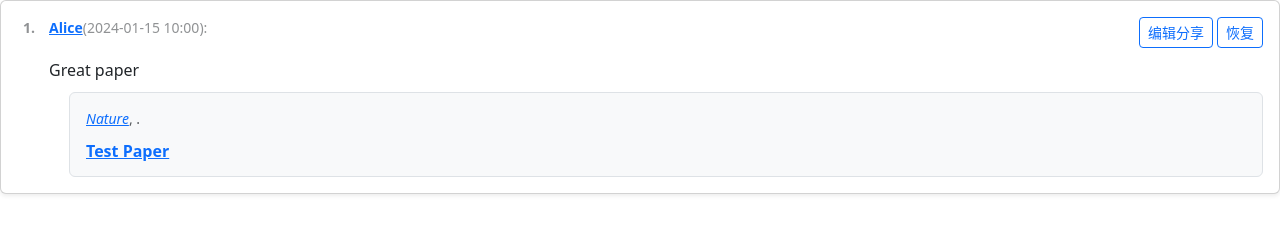
ReviewCard delete + restore › shows a visible error when restoring fails
Step 1. Click the button "恢复" → (1240, 32), box [1217, 17, 1263, 48]
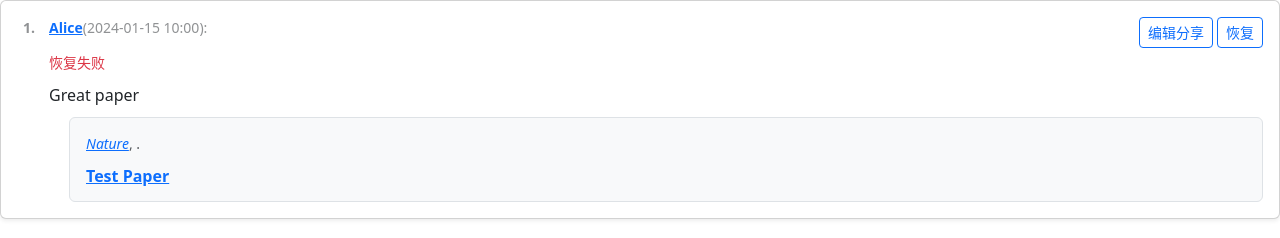
expect the text "恢复失败" is shown: met, box [49, 53, 105, 72]
